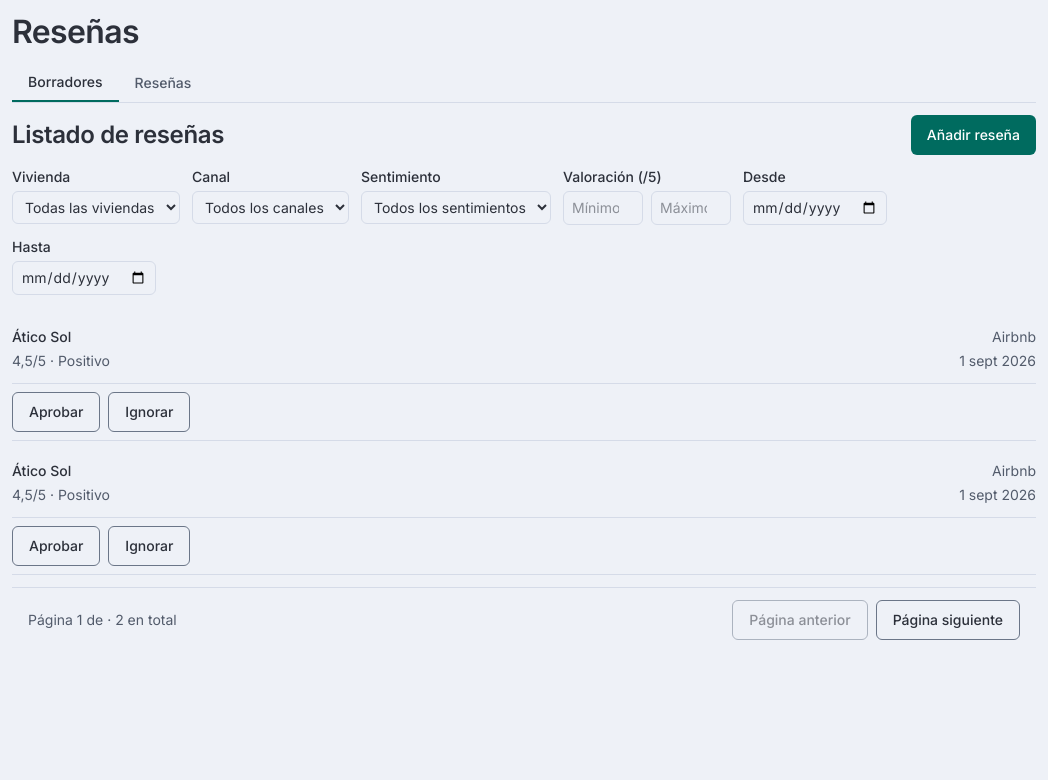
Test case: ReviewsView — one write in flight (R3.3, R4.3, design D9) › disables every row's decision buttons while a decision is flying
Click the 1st button "Aprobar": (56, 412) [12, 392, 100, 432]
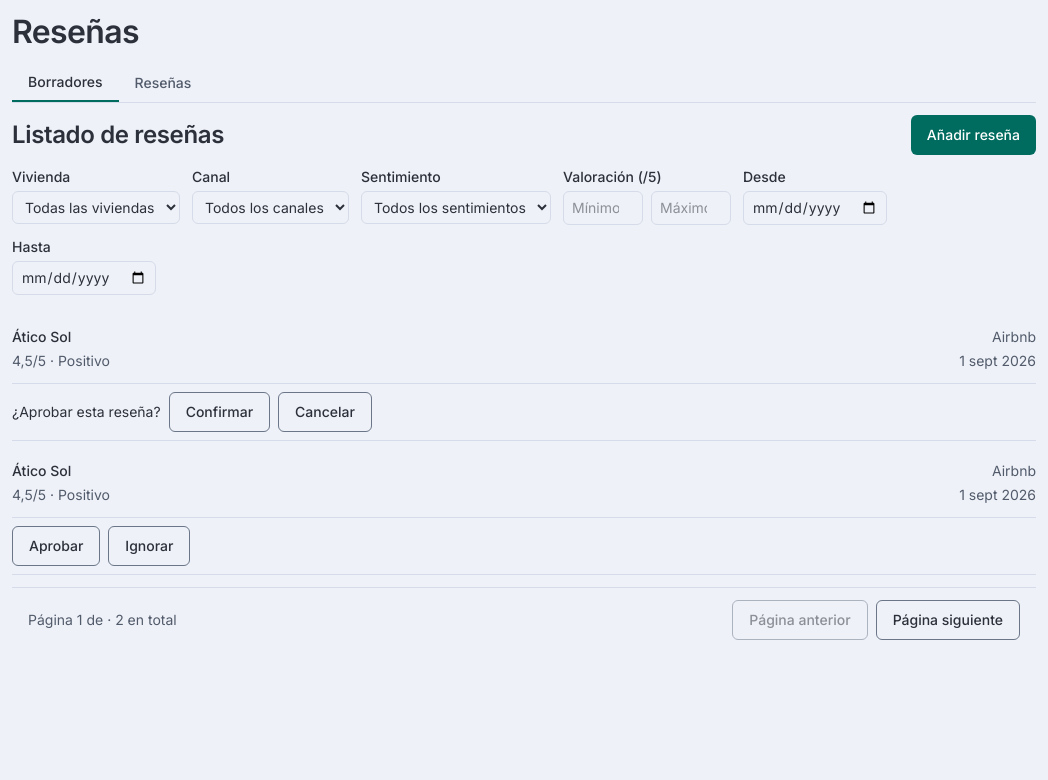
Click the button "Confirmar": (219, 412) [169, 392, 270, 432]
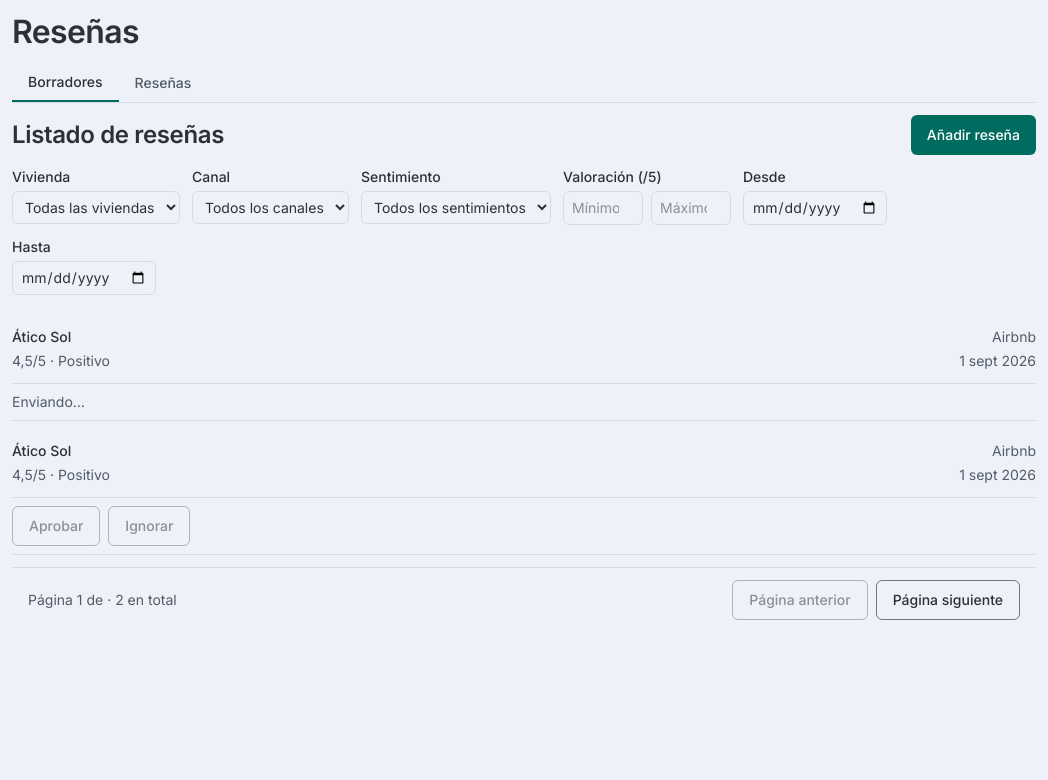
Expected: the text "Enviando…" is shown, [12, 393, 85, 410]
Expected: the button "Aprobar" is disabled, [12, 506, 100, 546]
